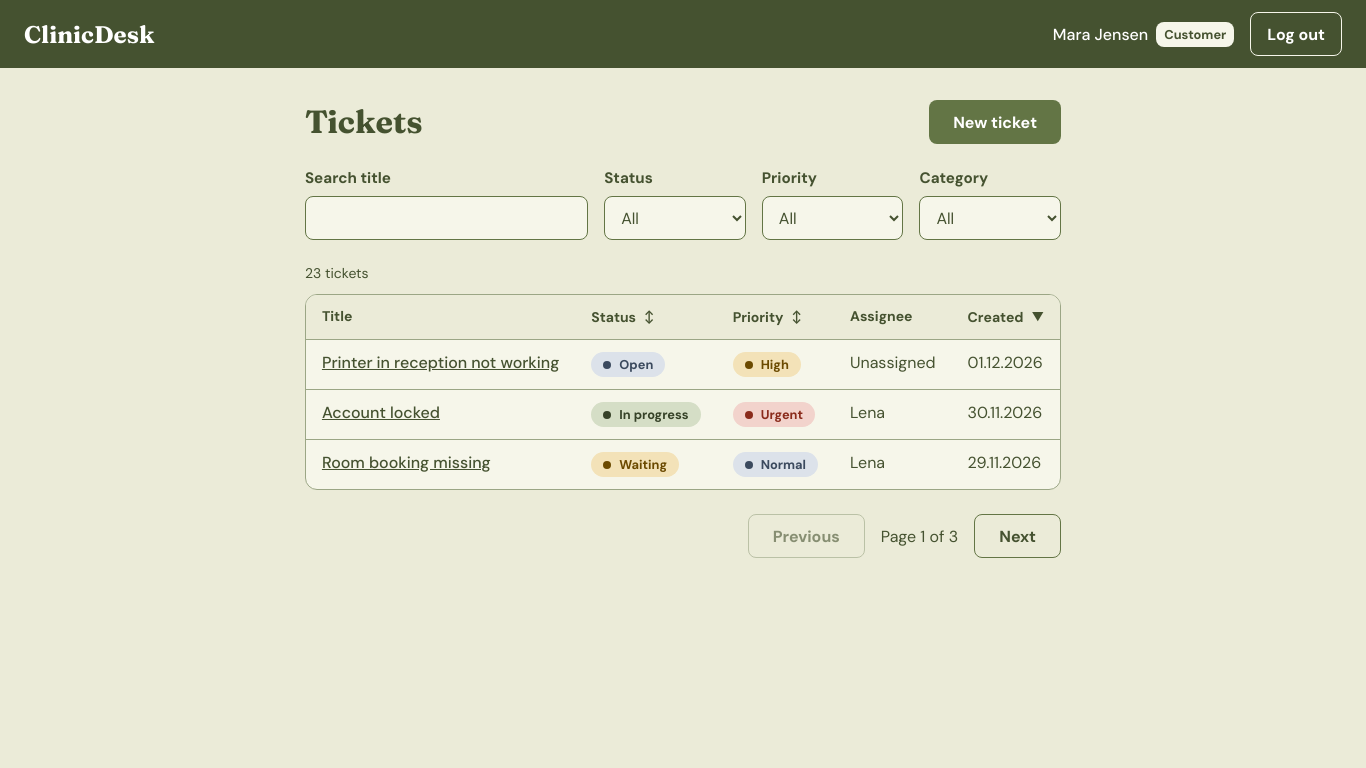
it: TicketsPage › disables Previous on the first page and loads page 2 with Next
Check: the table is shown, box [306,295,1060,489]
Check: the text "Page 1 of 3" is shown, box [881,526,958,546]
Click the button "Next": (1018, 536) [974,514,1061,558]
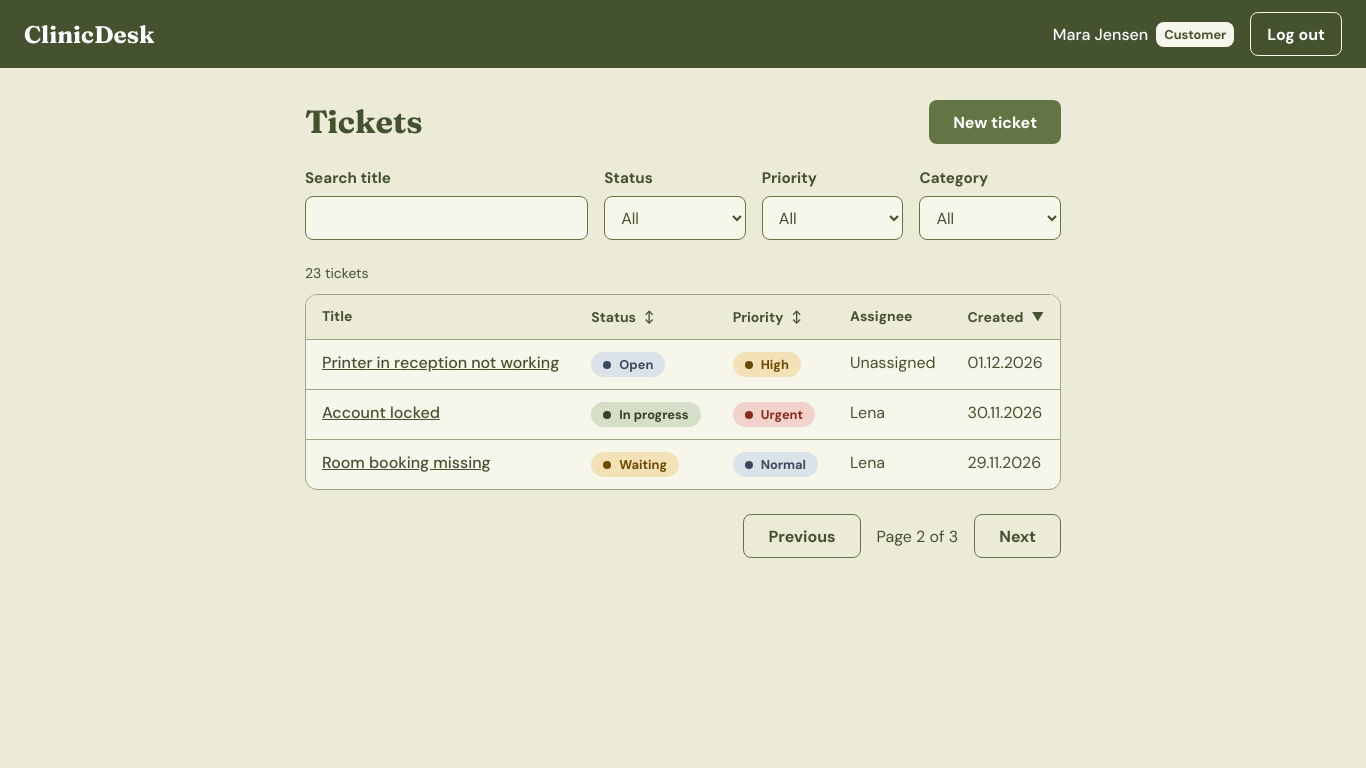
Check: the text "Page 2 of 3" is shown, box [876,526,958,546]
